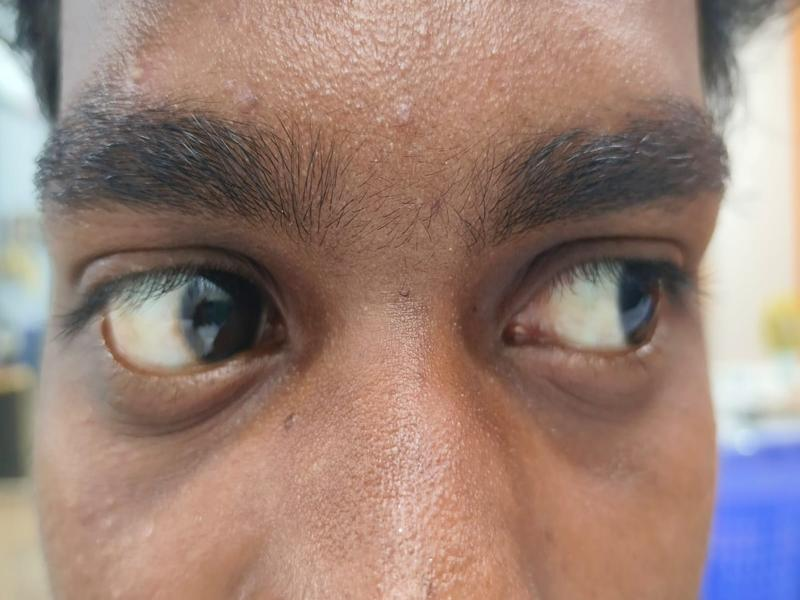EYE LEFT: (98, 271, 268, 368), (525, 261, 670, 350)
